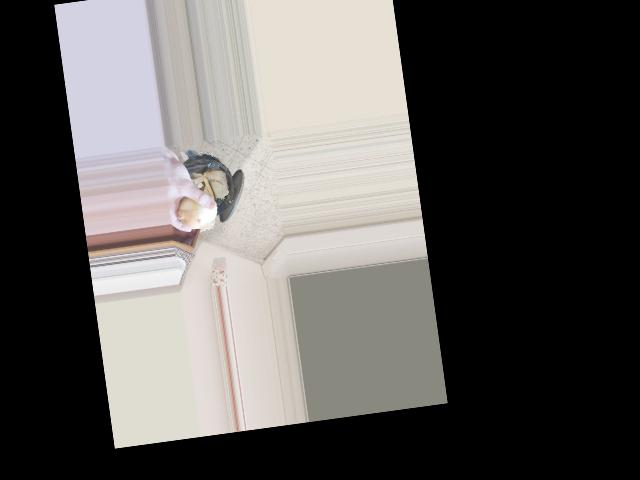onion: (177, 189, 217, 232)
